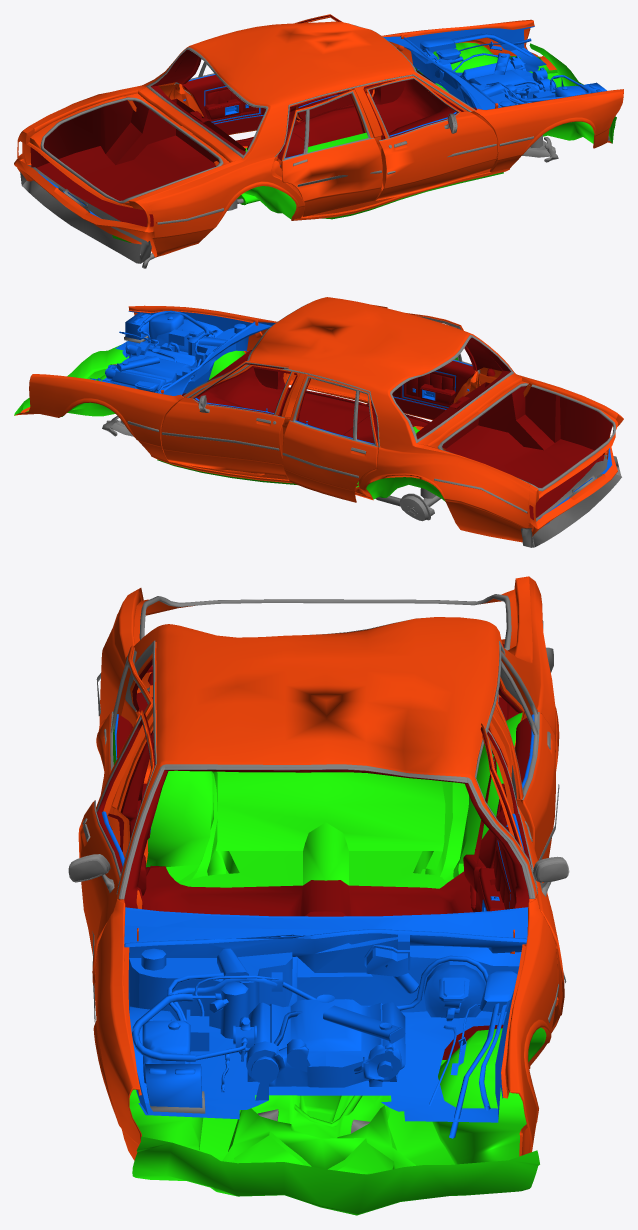
File: SM_JUNKCAR1_DEFORMED2.fbx
The picture shows the model from 3 angles, top to bottom: view 1: azimuth 30°, elevation 25°; view 2: azimuth 150°, elevation 25°; view 3: azimuth 270°, elevation 25°; orthographic projection. The views are drawn at different scales.
Parts seen in each view (by area): view 1: Object026; view 2: Object026; view 3: Object026.
Part boxes in pixels (x1,y1,x2,y2): Object026: (14,14,623,268); Object026: (14,297,623,547); Object026: (68,576,569,1215).
Size of the model in its own units: 446 by 112 by 182.
